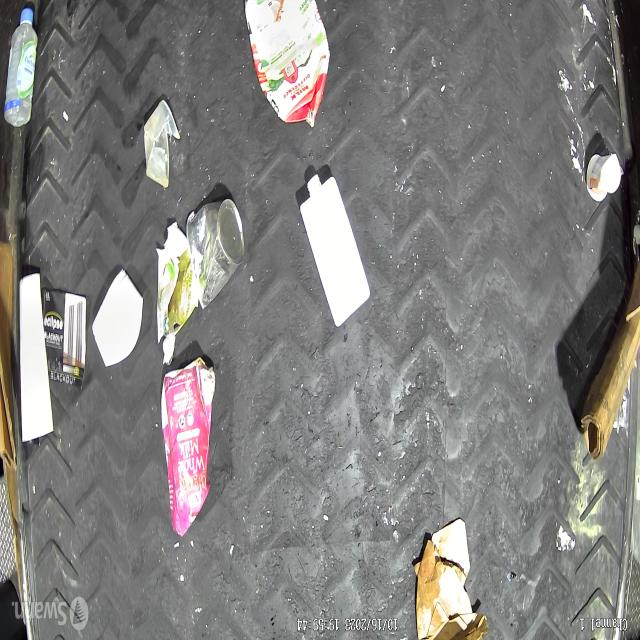can: (179, 189, 247, 318)
non_white_jug: (244, 0, 331, 132), (161, 357, 217, 531)
plastic_bottle: (0, 0, 38, 132)
